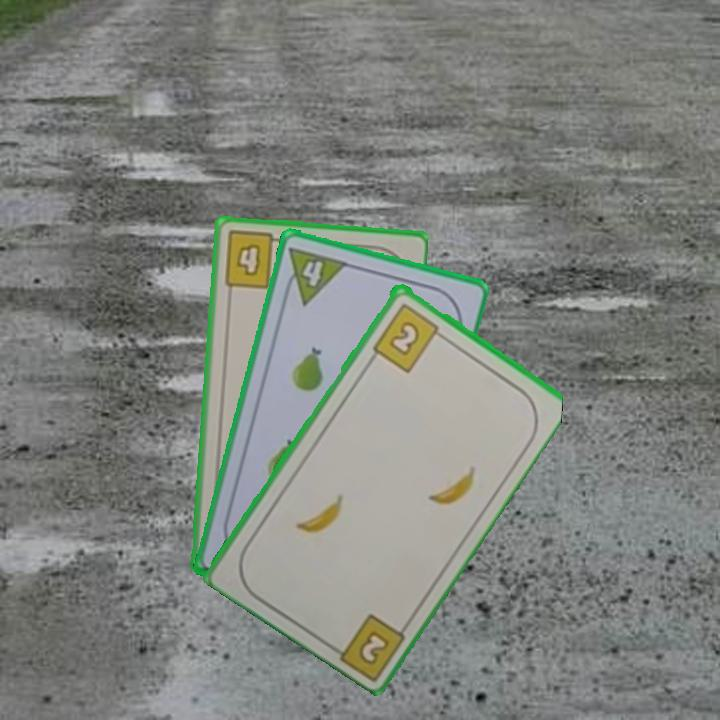2b: (369, 299, 448, 375), (354, 626, 393, 668)
4b: (220, 227, 287, 291)
4p: (278, 243, 350, 308)
